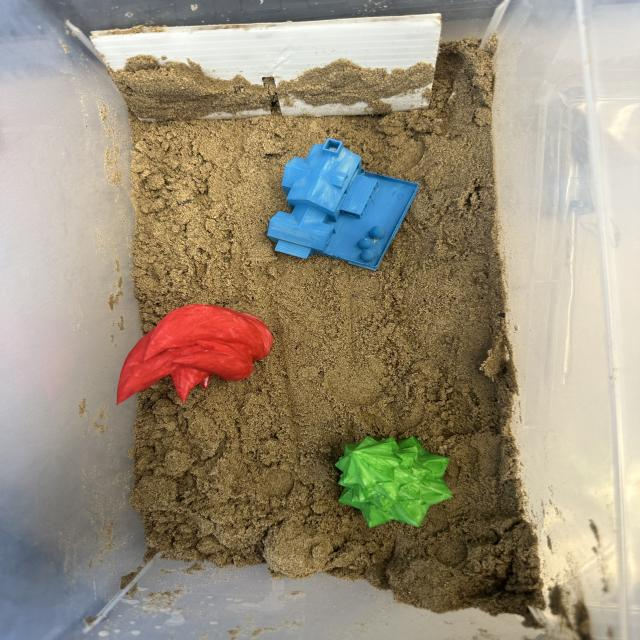fire: (116, 304, 275, 406)
house: (263, 137, 421, 271)
tree: (335, 434, 454, 529)
